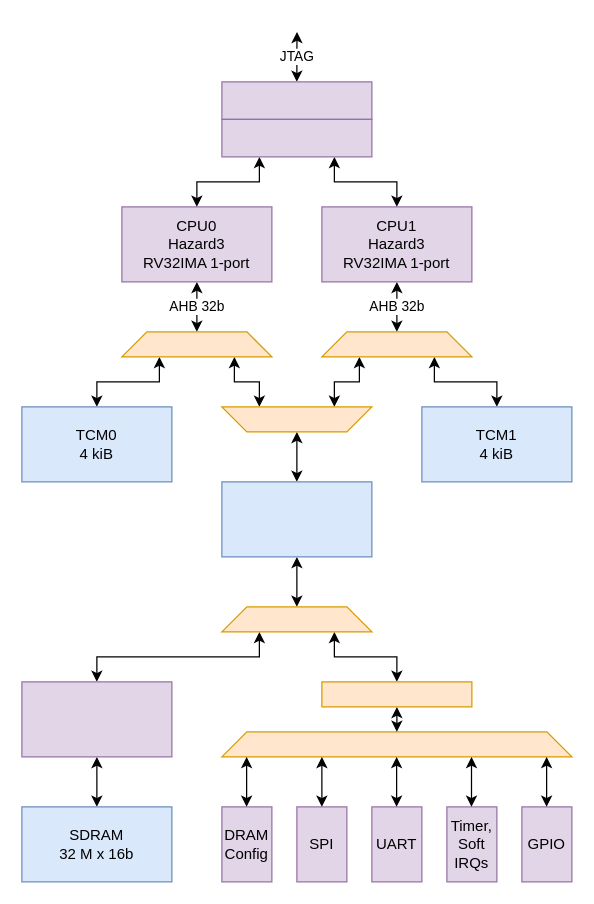
This 594x904 diagram has some shape labels left out. Here are the shapes that lost their labels. From the top down, the centre of each, then its label:
At [296,100]: "JTAG-DTM + CDC".
At [296,137]: "Debug Module".
At [296,519]: "System Cache 4 kiB Direct-mapped w/ Exclusivity Monitor".
At [396,694]: "AHB-to-APB".
At [96,719]: "SDRAM Controller".
